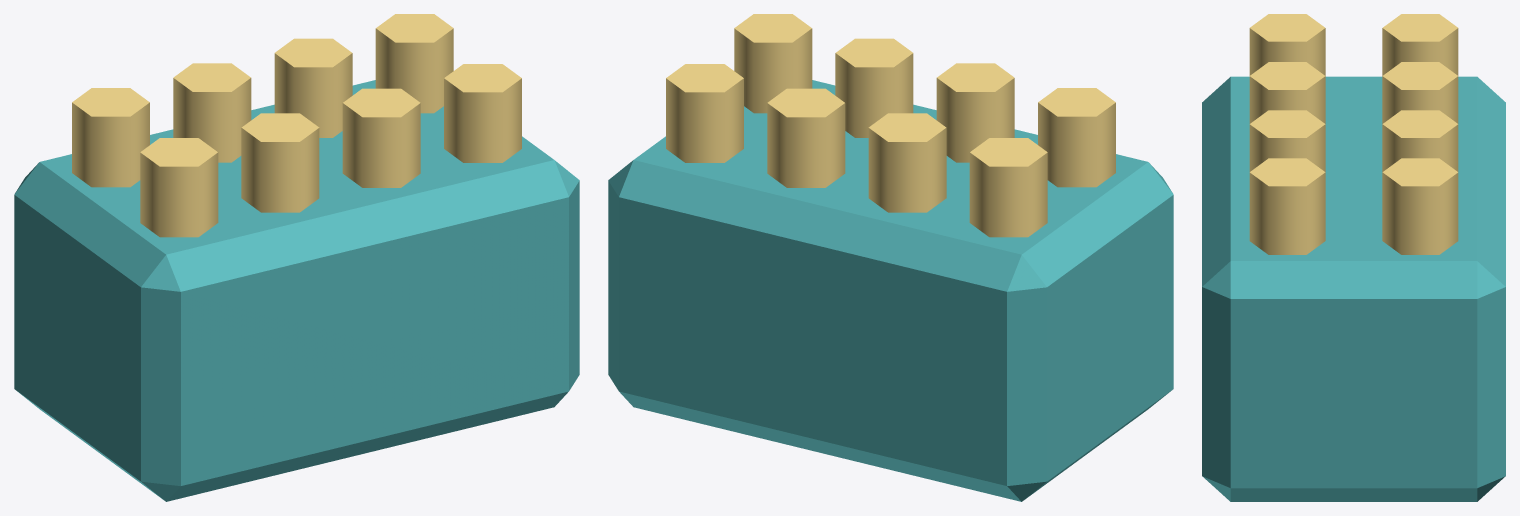
File: item_ammo_bullets.glb
The picture shows the model from 3 angles, left to right: view 1: azimuth 30°, elevation 25°; view 2: azimuth 150°, elevation 25°; view 3: azimuth 270°, elevation 25°; orthographic projection. The views are drawn at different scales.
Parts seen in each view (by area): view 1: ammo_bullets; view 2: ammo_bullets; view 3: ammo_bullets.
Boxes of the visible parts, x1,y1,x2,y2 form: ammo_bullets: (14, 14, 579, 501); ammo_bullets: (608, 14, 1173, 501); ammo_bullets: (1202, 14, 1505, 501).
Bounding box in the file's own units: 0.26 × 0.18 × 0.16.
